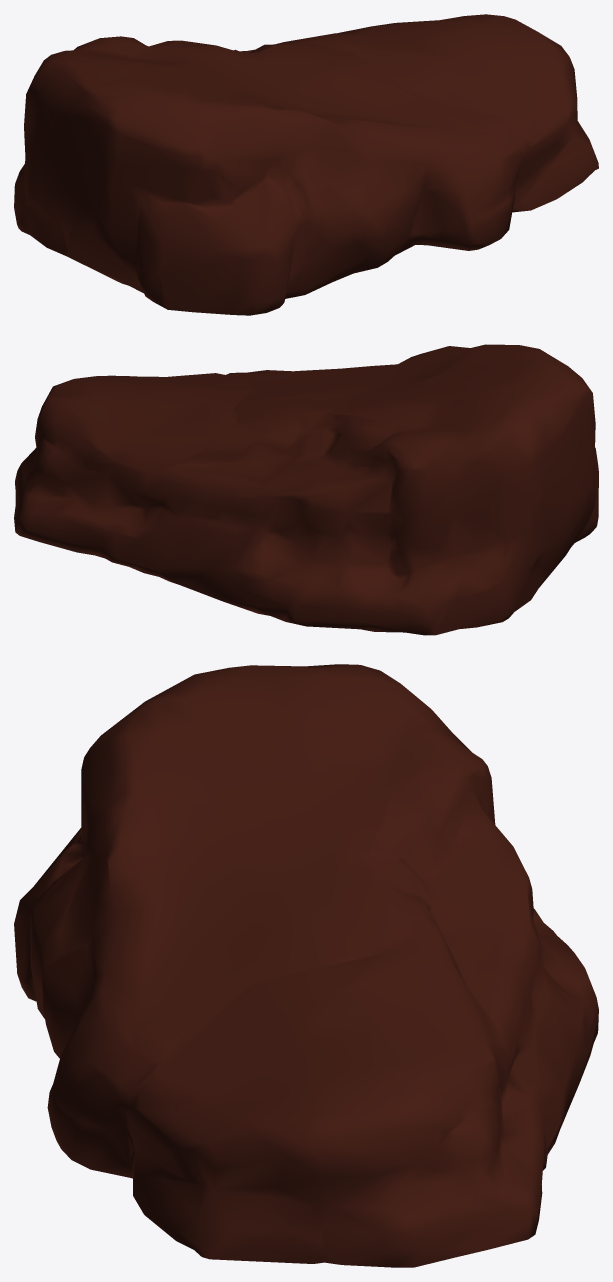
The model's file is Nature_Small_Rock1.FBX.
The picture shows the model from 3 angles, top to bottom: view 1: azimuth 30°, elevation 25°; view 2: azimuth 150°, elevation 25°; view 3: azimuth 270°, elevation 25°; orthographic projection. The views are drawn at different scales.
Parts seen in each view (by area): view 1: Rock_Small1; view 2: Rock_Small1; view 3: Rock_Small1.
Part boxes in pixels (left/top/right/bottom): Rock_Small1: left=14, top=14, right=598, bottom=315; Rock_Small1: left=14, top=344, right=598, bottom=635; Rock_Small1: left=14, top=664, right=598, bottom=1267.
Bounding box in the file's own units: 220 × 76.9 × 152.
